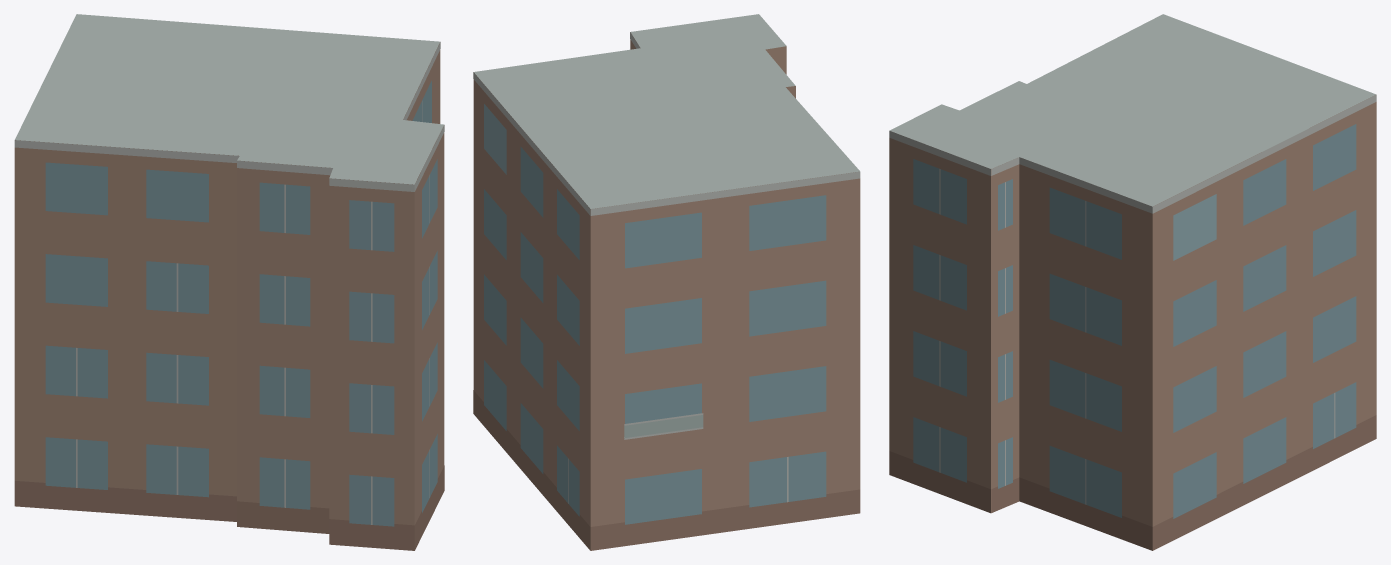
File: survey-upis-33040090.glb
3 views of the same model, side by side, from view 1: azimuth 30°, elevation 25°; view 2: azimuth 150°, elevation 25°; view 3: azimuth 270°, elevation 25° (orthographic). The views are drawn at different scales.
Visible parts, largest first — view 1: survey-upis-33040090.tmp; view 2: survey-upis-33040090.tmp; view 3: survey-upis-33040090.tmp.
Part boxes in pixels (box(x1,y1,x2,y2)): survey-upis-33040090.tmp: box(14, 14, 444, 550); survey-upis-33040090.tmp: box(473, 14, 860, 550); survey-upis-33040090.tmp: box(889, 14, 1376, 550).
Size of the model in its own units: 14.29 by 11.9 by 15.27.
